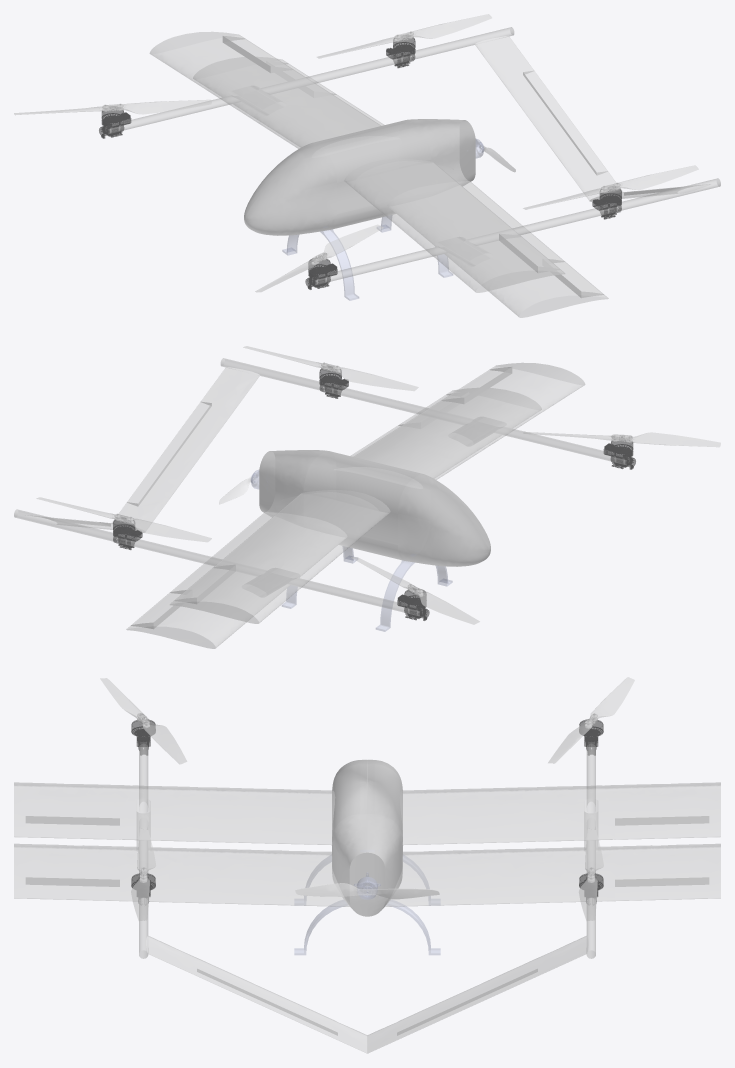
Rendered from drone.glb.
The picture shows the model from 3 angles, top to bottom: view 1: azimuth 30°, elevation 25°; view 2: azimuth 150°, elevation 25°; view 3: azimuth 270°, elevation 25°; orthographic projection. The views are drawn at different scales.
Visible parts, largest first — view 1: empty_4; view 2: empty_4; view 3: empty_4.
Part boxes in pixels (x1,y1,x2,y2): empty_4: (14,14,720,317); empty_4: (14,346,720,648); empty_4: (14,677,720,1053).
Bounding box in the file's own units: 2595 × 650 × 3000.
